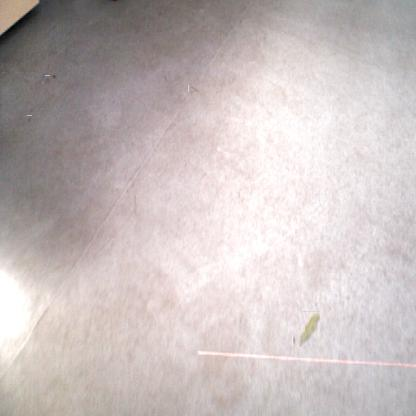dirty: (298, 311, 320, 347)
mark: (162, 68, 168, 82), (189, 84, 198, 93), (132, 192, 136, 206), (26, 115, 32, 124), (44, 75, 50, 84), (51, 73, 57, 80), (292, 335, 295, 346)
